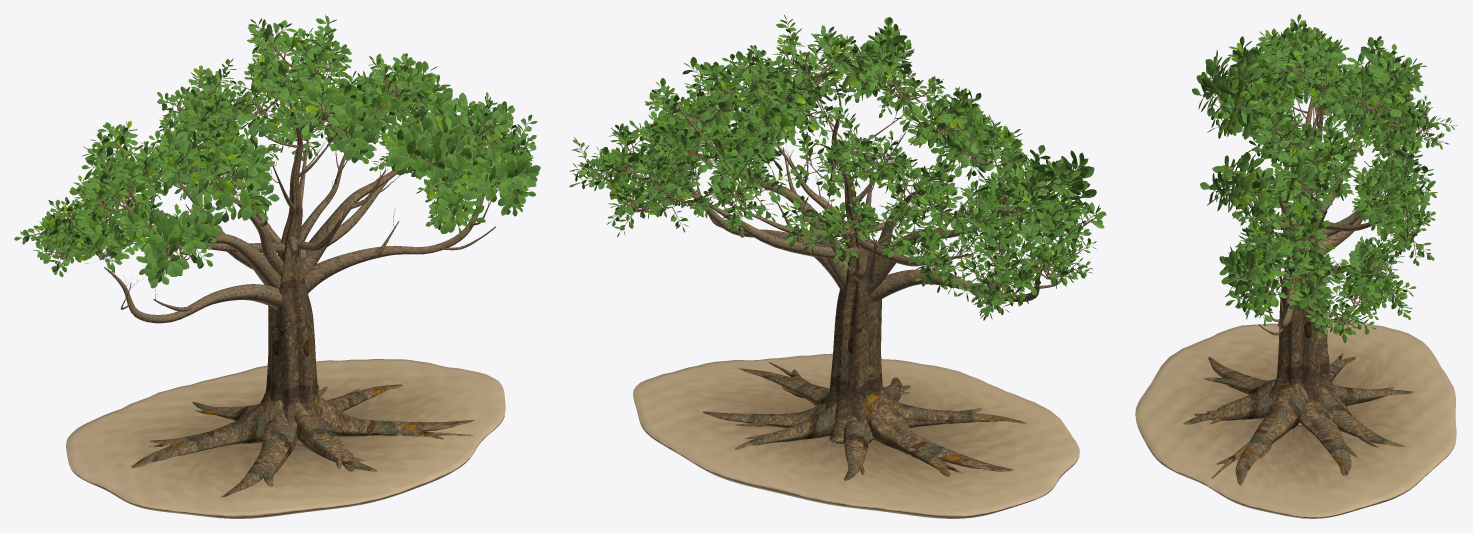
File: Ketapang_Stage_1.glb
3 renders of one model, left to right at view 1: azimuth 30°, elevation 25°; view 2: azimuth 150°, elevation 25°; view 3: azimuth 270°, elevation 25°, orthographic. The views are drawn at different scales.
Visible parts, largest first — view 1: 3D veined Ketapang leaves, Loam and sand, Trunk, roots and main branches, New canopy shoots; view 2: 3D veined Ketapang leaves, Loam and sand, Trunk, roots and main branches, New canopy shoots; view 3: 3D veined Ketapang leaves, Loam and sand, Trunk, roots and main branches, New canopy shoots.
Boxes of the visible parts, x1,y1,x2,y2 form: 3D veined Ketapang leaves: [14, 14, 540, 288]; Loam and sand: [66, 359, 505, 518]; Trunk, roots and main branches: [104, 63, 498, 497]; New canopy shoots: [23, 23, 528, 275]; 3D veined Ketapang leaves: [569, 14, 1106, 320]; Loam and sand: [633, 353, 1079, 518]; Trunk, roots and main branches: [675, 60, 1070, 481]; New canopy shoots: [577, 23, 1099, 307]; 3D veined Ketapang leaves: [1192, 14, 1457, 342]; Loam and sand: [1135, 318, 1456, 518]; Trunk, roots and main branches: [1183, 74, 1413, 485]; New canopy shoots: [1208, 24, 1451, 333].
Size of the model in its own units: 1.97 by 1.5 by 1.11.
10 materials, 9 textured.
